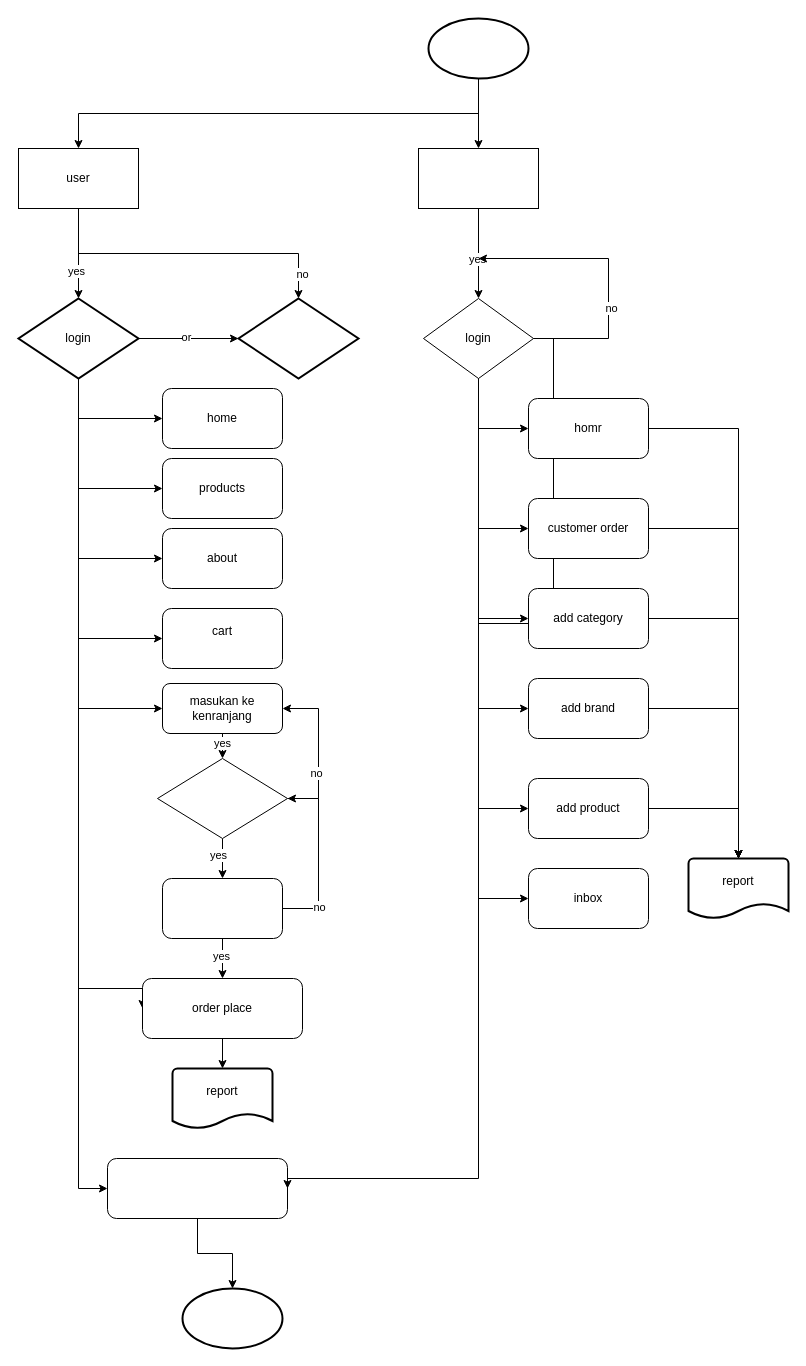
The diagram is 806 pixels wide and 1366 high, and some of its shapes have lost their labels. Each missing label, with the centre of its shape:
"admin" goes at pixel 478 178.
"logout" goes at pixel 197 1188.
"online pay" goes at pixel 222 908.
"payment" goes at pixel 222 798.
"register" goes at pixel 298 338.
"start" goes at pixel 478 48.
